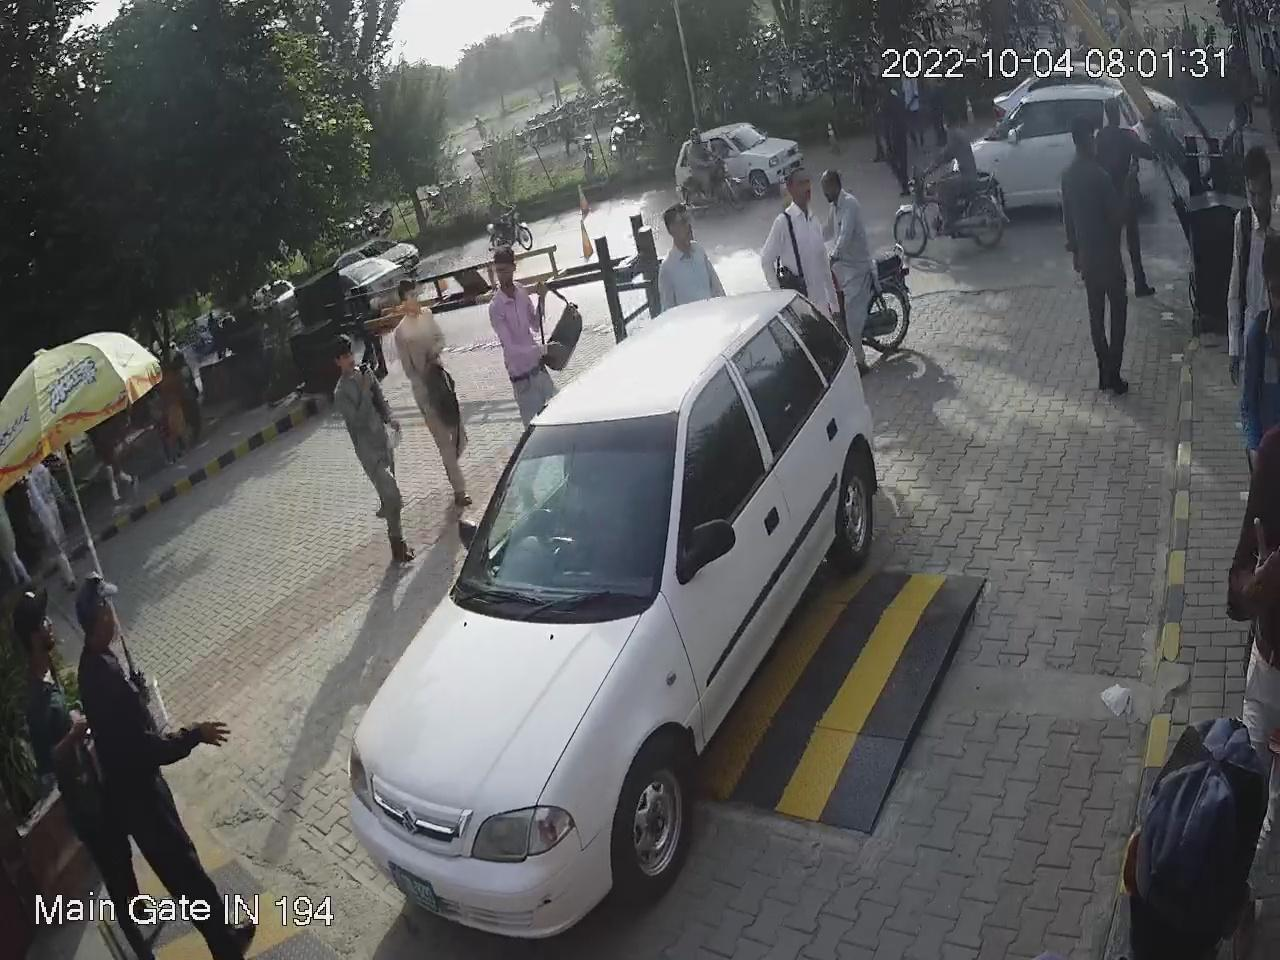windshield: (449, 402, 688, 617)
